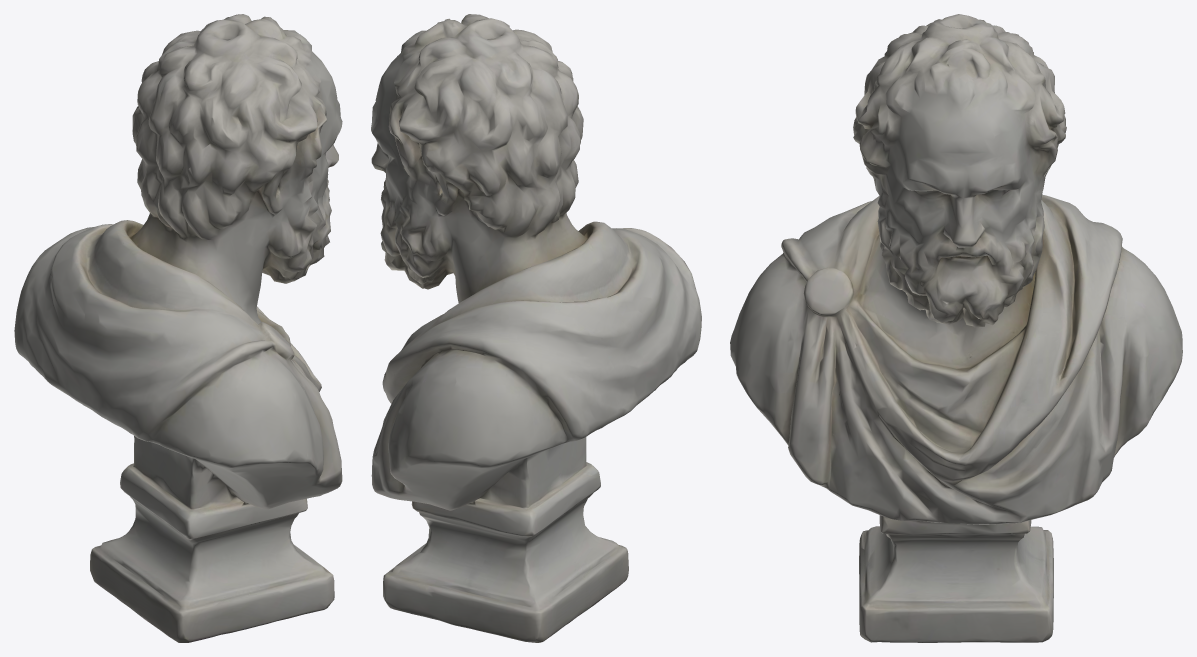
File: bust-archimede.glb
The picture shows the model from 3 angles, left to right: view 1: azimuth 30°, elevation 25°; view 2: azimuth 150°, elevation 25°; view 3: azimuth 270°, elevation 25°; orthographic projection. The views are drawn at different scales.
Parts seen in each view (by area): view 1: tripo_node_67b8138c-a3bb-4080-aff1-450d6de5e321; view 2: tripo_node_67b8138c-a3bb-4080-aff1-450d6de5e321; view 3: tripo_node_67b8138c-a3bb-4080-aff1-450d6de5e321.
Part boxes in pixels (x1=…): tripo_node_67b8138c-a3bb-4080-aff1-450d6de5e321: x1=14, y1=14, x2=342, y2=642; tripo_node_67b8138c-a3bb-4080-aff1-450d6de5e321: x1=371, y1=14, x2=701, y2=642; tripo_node_67b8138c-a3bb-4080-aff1-450d6de5e321: x1=730, y1=14, x2=1182, y2=642.
Bounding box in the file's own units: 0.2533 × 0.5 × 0.3474.
1 material, 1 textured.
